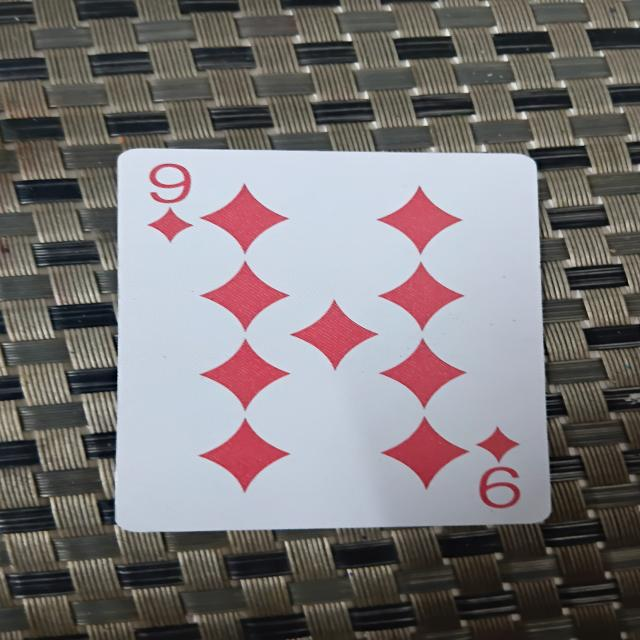9D: (108, 146, 552, 537)
